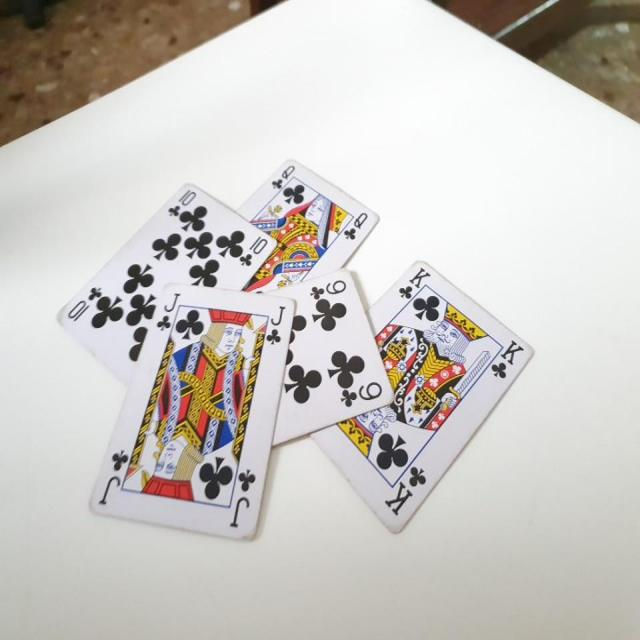10 Trefoils: (58, 181, 278, 394)
9 Trefoils: (260, 266, 394, 445)
J Trefoils: (87, 281, 295, 538)
K Trefoils: (308, 258, 538, 533)
Q Trefoils: (236, 160, 382, 298)
